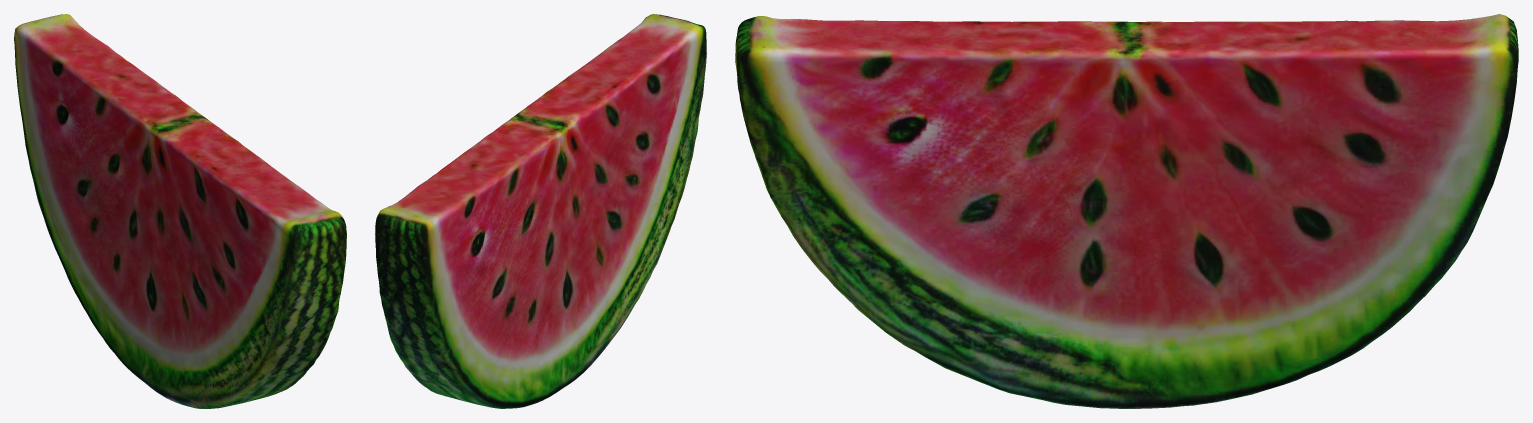
Rendered from melone-stueck.glb.
3 views of the same model, side by side, from view 1: azimuth 30°, elevation 25°; view 2: azimuth 150°, elevation 25°; view 3: azimuth 270°, elevation 25° (orthographic). The views are drawn at different scales.
Visible parts, largest first — view 1: mesh_base_material_0; view 2: mesh_base_material_0; view 3: mesh_base_material_0.
Boxes of the visible parts, x1,y1,x2,y2 form: mesh_base_material_0: (14,14,346,408); mesh_base_material_0: (375,14,706,408); mesh_base_material_0: (735,14,1518,408).
Size of the model in its own units: 0.1231 by 0.5142 by 0.9994.
1 material, 1 textured.
